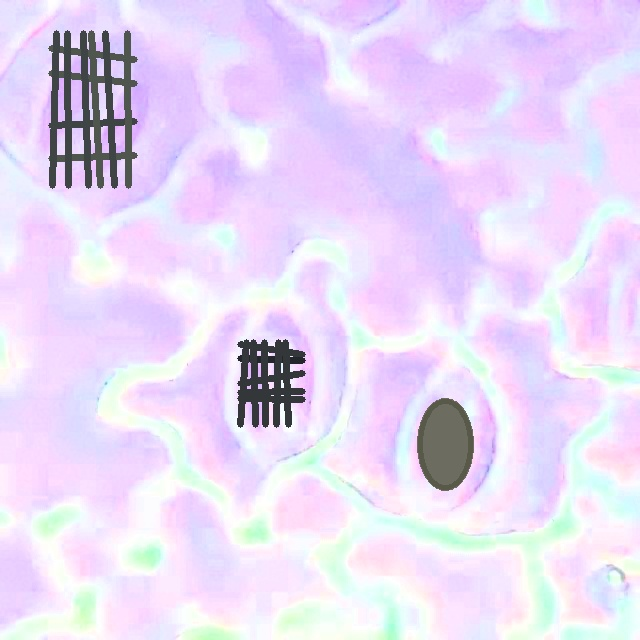open: (48, 30, 137, 188), (237, 339, 304, 426), (417, 399, 473, 490)
